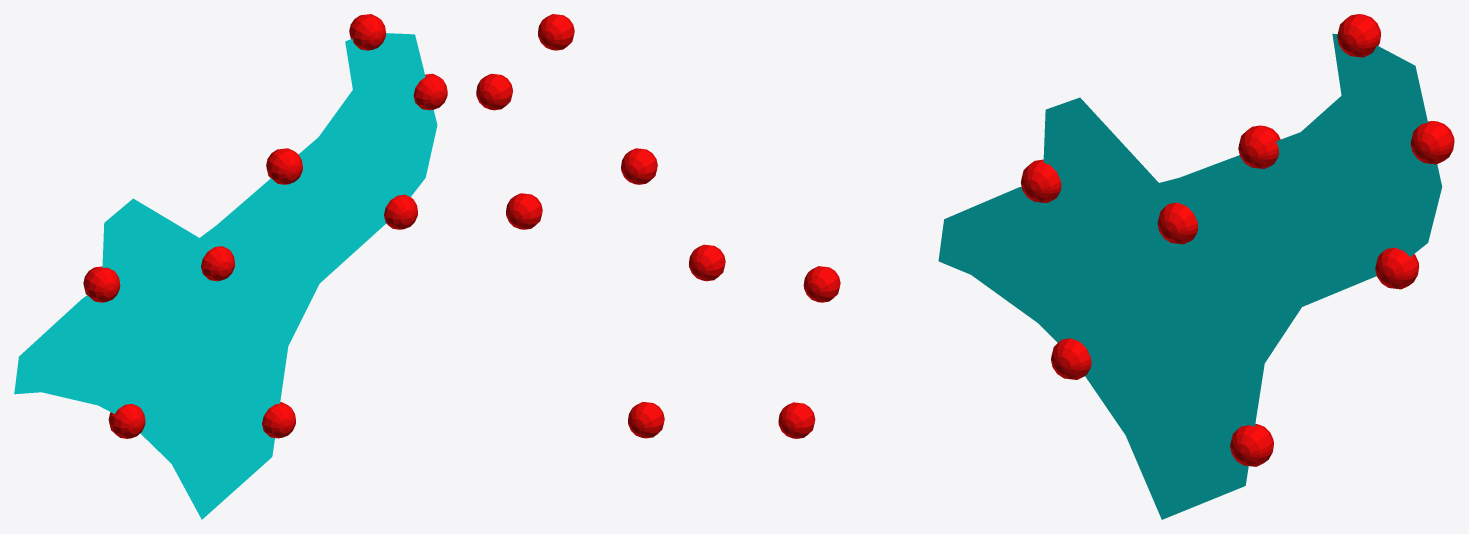
File: yunoyama.glb
The picture shows the model from 3 angles, left to right: view 1: azimuth 30°, elevation 25°; view 2: azimuth 150°, elevation 25°; view 3: azimuth 330°, elevation 25°; orthographic projection. The views are drawn at different scales.
Parts seen in each view (by area): view 1: Mesh 2, Mesh 1; view 2: Mesh 1; view 3: Mesh 2, Mesh 1.
Boxes of the visible parts, bbox=[...] form: Mesh 2: bbox=[14, 33, 437, 519]; Mesh 1: bbox=[83, 14, 447, 438]; Mesh 1: bbox=[476, 14, 840, 438]; Mesh 2: bbox=[938, 33, 1442, 519]; Mesh 1: bbox=[1021, 14, 1454, 466].
Bounding box in the file's own units: 942 × 969 × 70.73.
